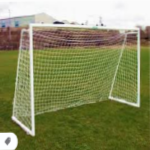goals: (10, 22, 145, 139)
